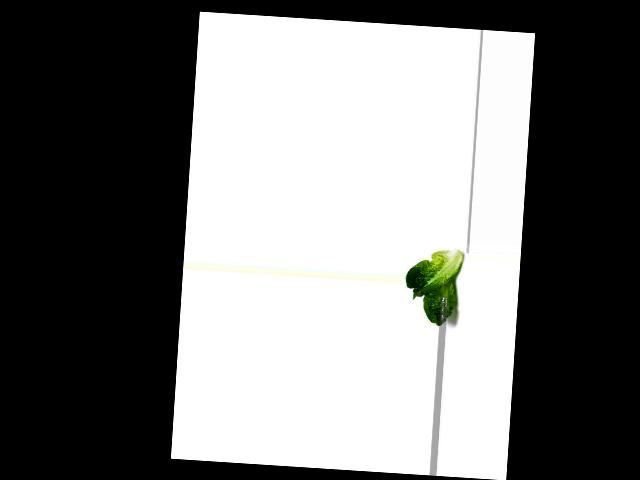lettuce: (402, 244, 461, 329)
